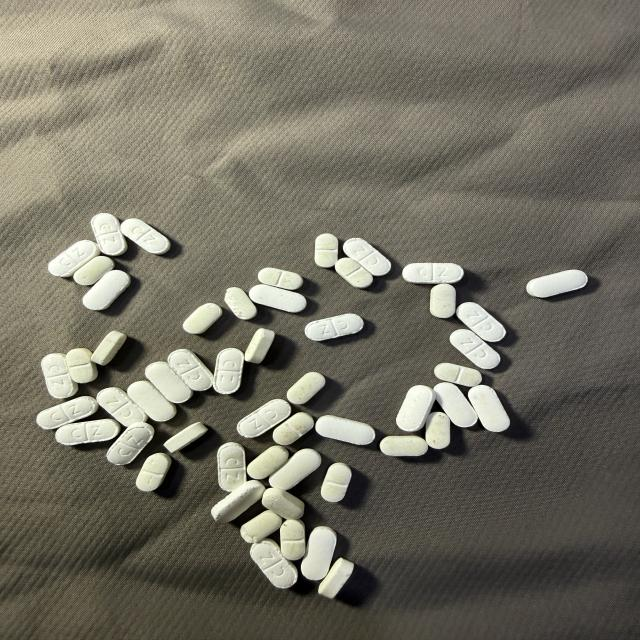pill: (250, 539, 297, 588), (212, 480, 264, 522), (237, 399, 291, 438), (269, 449, 321, 489), (36, 396, 98, 429), (107, 422, 154, 465), (127, 381, 176, 421), (450, 330, 500, 369), (468, 385, 510, 431), (145, 362, 192, 403), (48, 240, 100, 277), (97, 387, 146, 426), (456, 303, 506, 341), (434, 383, 477, 427), (83, 270, 130, 310), (301, 527, 336, 580), (343, 238, 391, 276), (168, 349, 212, 390), (316, 415, 375, 445), (396, 385, 434, 431), (121, 219, 170, 254), (56, 419, 120, 445), (527, 270, 587, 297), (249, 284, 306, 312), (305, 314, 364, 341), (91, 213, 127, 256), (42, 354, 77, 398), (163, 421, 208, 453), (213, 348, 244, 394), (319, 558, 354, 598), (217, 443, 246, 491), (247, 446, 288, 479), (240, 511, 282, 543), (136, 453, 171, 491), (262, 488, 304, 519), (273, 413, 313, 445), (287, 372, 325, 404), (183, 303, 222, 334), (403, 263, 463, 283), (321, 463, 351, 502), (74, 256, 114, 285), (92, 331, 126, 365), (335, 258, 373, 288), (66, 348, 97, 383), (434, 363, 481, 386), (225, 287, 257, 319), (245, 328, 274, 363), (280, 520, 305, 560), (258, 268, 303, 290), (380, 436, 427, 456), (425, 412, 450, 449), (430, 283, 455, 318), (315, 234, 338, 268)
